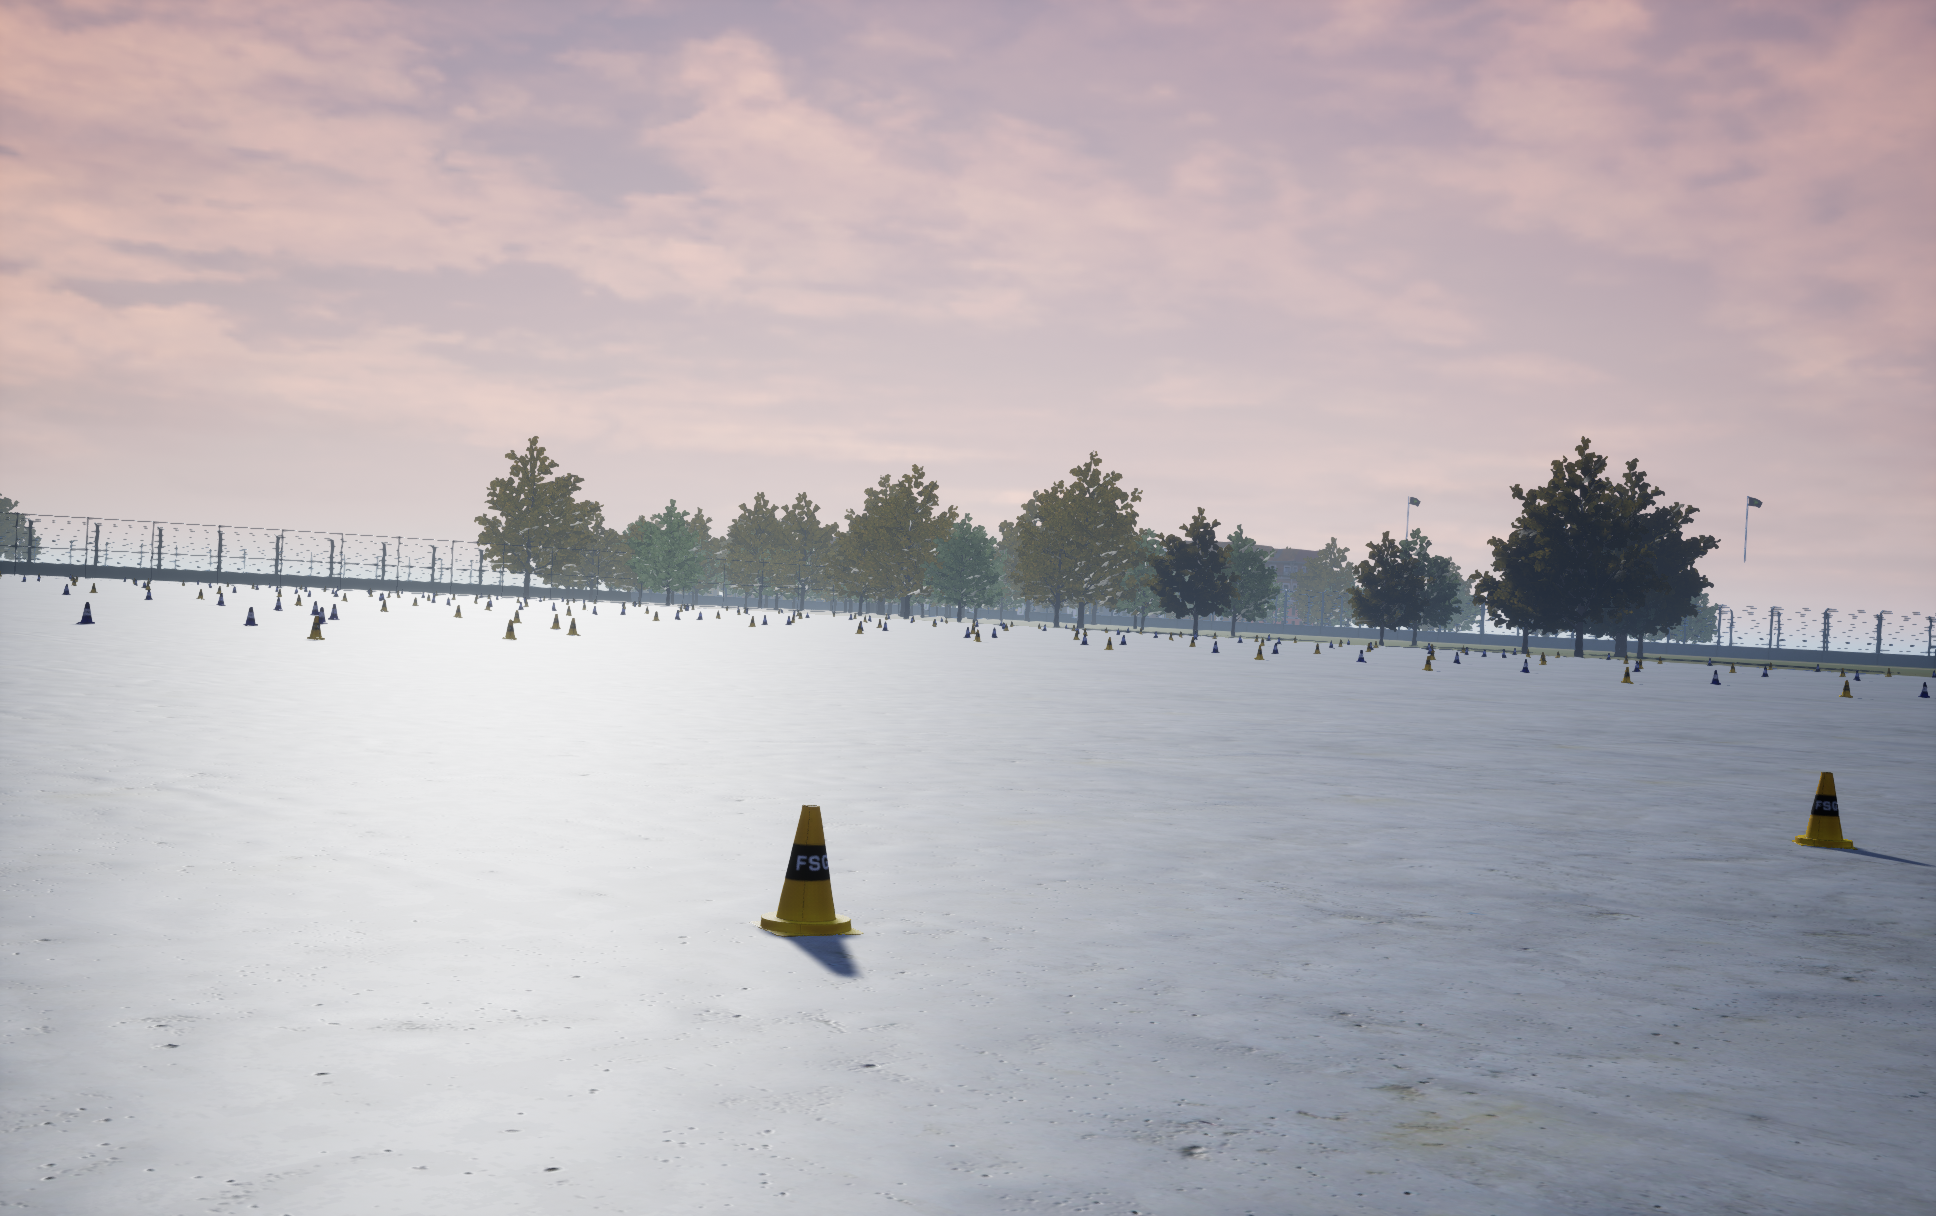blue: (749, 806, 863, 936), (1792, 772, 1858, 849), (307, 616, 325, 639), (502, 619, 517, 639)
yellow: (76, 602, 94, 623), (242, 607, 256, 625)
